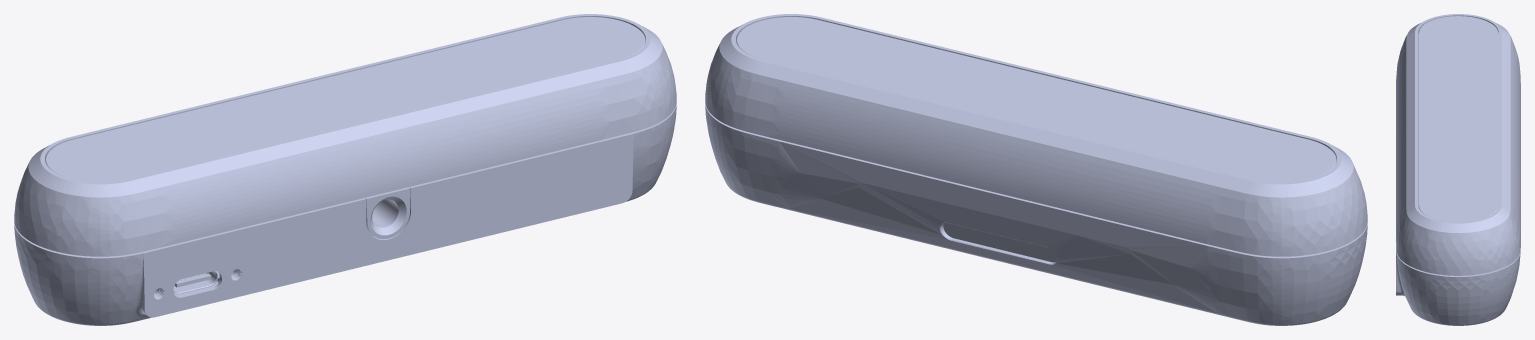
3 views of the same model, side by side, from view 1: azimuth 30°, elevation 25°; view 2: azimuth 150°, elevation 25°; view 3: azimuth 270°, elevation 25° (orthographic). The views are drawn at different scales.
Visible parts, largest first — view 1: node_d252b9b8_7512_4f12_8fdb_e314df242d7a_mesh7, node_d252b9b8_7512_4f12_8fdb_e314df242d7a_mesh6, node_d252b9b8_7512_4f12_8fdb_e314df242d7a_mesh0, node_d252b9b8_7512_4f12_8fdb_e314df242d7a_mesh3, node_d252b9b8_7512_4f12_8fdb_e314df242d7a_mesh2, node_d252b9b8_7512_4f12_8fdb_e314df242d7a_mesh4; view 2: node_d252b9b8_7512_4f12_8fdb_e314df242d7a_mesh7, node_d252b9b8_7512_4f12_8fdb_e314df242d7a_mesh4, node_d252b9b8_7512_4f12_8fdb_e314df242d7a_mesh6, node_d252b9b8_7512_4f12_8fdb_e314df242d7a_mesh5, node_d252b9b8_7512_4f12_8fdb_e314df242d7a_mesh3, node_d252b9b8_7512_4f12_8fdb_e314df242d7a_mesh2, node_d252b9b8_7512_4f12_8fdb_e314df242d7a_mesh1; view 3: node_d252b9b8_7512_4f12_8fdb_e314df242d7a_mesh7, node_d252b9b8_7512_4f12_8fdb_e314df242d7a_mesh4, node_d252b9b8_7512_4f12_8fdb_e314df242d7a_mesh2, node_d252b9b8_7512_4f12_8fdb_e314df242d7a_mesh6, node_d252b9b8_7512_4f12_8fdb_e314df242d7a_mesh3, node_d252b9b8_7512_4f12_8fdb_e314df242d7a_mesh5, node_d252b9b8_7512_4f12_8fdb_e314df242d7a_mesh0.
Part boxes in pixels (x1,y1,x2,y2): node_d252b9b8_7512_4f12_8fdb_e314df242d7a_mesh7: (40,14,650,292); node_d252b9b8_7512_4f12_8fdb_e314df242d7a_mesh6: (14,16,676,316); node_d252b9b8_7512_4f12_8fdb_e314df242d7a_mesh0: (40,31,645,325); node_d252b9b8_7512_4f12_8fdb_e314df242d7a_mesh3: (14,25,662,324); node_d252b9b8_7512_4f12_8fdb_e314df242d7a_mesh2: (28,19,676,308); node_d252b9b8_7512_4f12_8fdb_e314df242d7a_mesh4: (100,44,676,324); node_d252b9b8_7512_4f12_8fdb_e314df242d7a_mesh7: (731,14,1341,313); node_d252b9b8_7512_4f12_8fdb_e314df242d7a_mesh4: (705,44,1214,243); node_d252b9b8_7512_4f12_8fdb_e314df242d7a_mesh6: (705,28,1367,314); node_d252b9b8_7512_4f12_8fdb_e314df242d7a_mesh5: (716,61,1336,325); node_d252b9b8_7512_4f12_8fdb_e314df242d7a_mesh3: (719,25,1367,324); node_d252b9b8_7512_4f12_8fdb_e314df242d7a_mesh2: (705,16,1343,263); node_d252b9b8_7512_4f12_8fdb_e314df242d7a_mesh1: (819,19,1309,139); node_d252b9b8_7512_4f12_8fdb_e314df242d7a_mesh7: (1396,14,1520,290); node_d252b9b8_7512_4f12_8fdb_e314df242d7a_mesh4: (1404,50,1520,275); node_d252b9b8_7512_4f12_8fdb_e314df242d7a_mesh2: (1396,23,1512,324); node_d252b9b8_7512_4f12_8fdb_e314df242d7a_mesh6: (1396,23,1520,325); node_d252b9b8_7512_4f12_8fdb_e314df242d7a_mesh3: (1396,15,1510,296); node_d252b9b8_7512_4f12_8fdb_e314df242d7a_mesh5: (1396,30,1520,314); node_d252b9b8_7512_4f12_8fdb_e314df242d7a_mesh0: (1396,34,1498,290).
Size of the model in its own units: 124 by 29 by 26.
